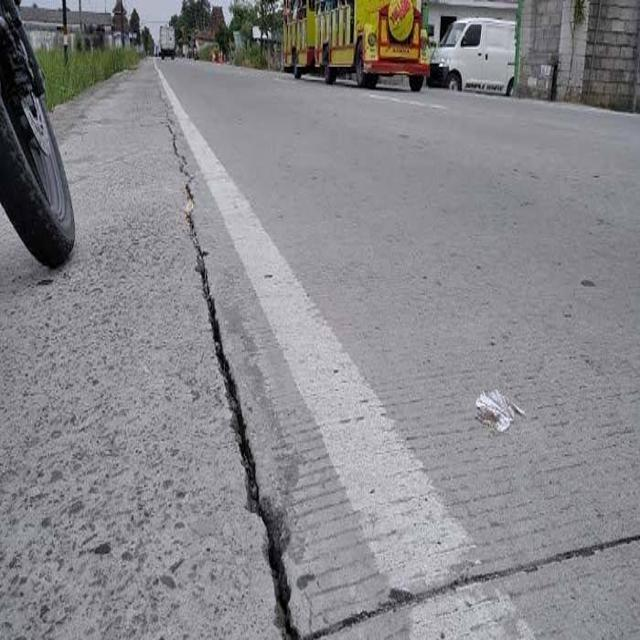Memanjang: (115, 118, 385, 640)
